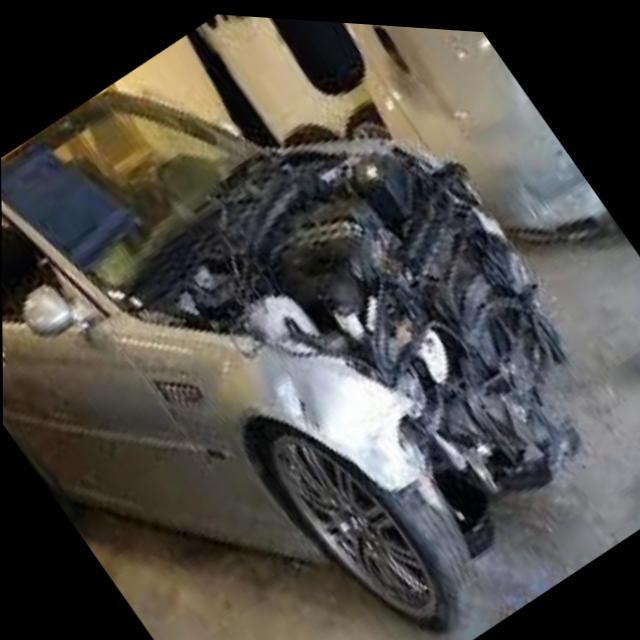no part: (138, 135, 577, 502)
